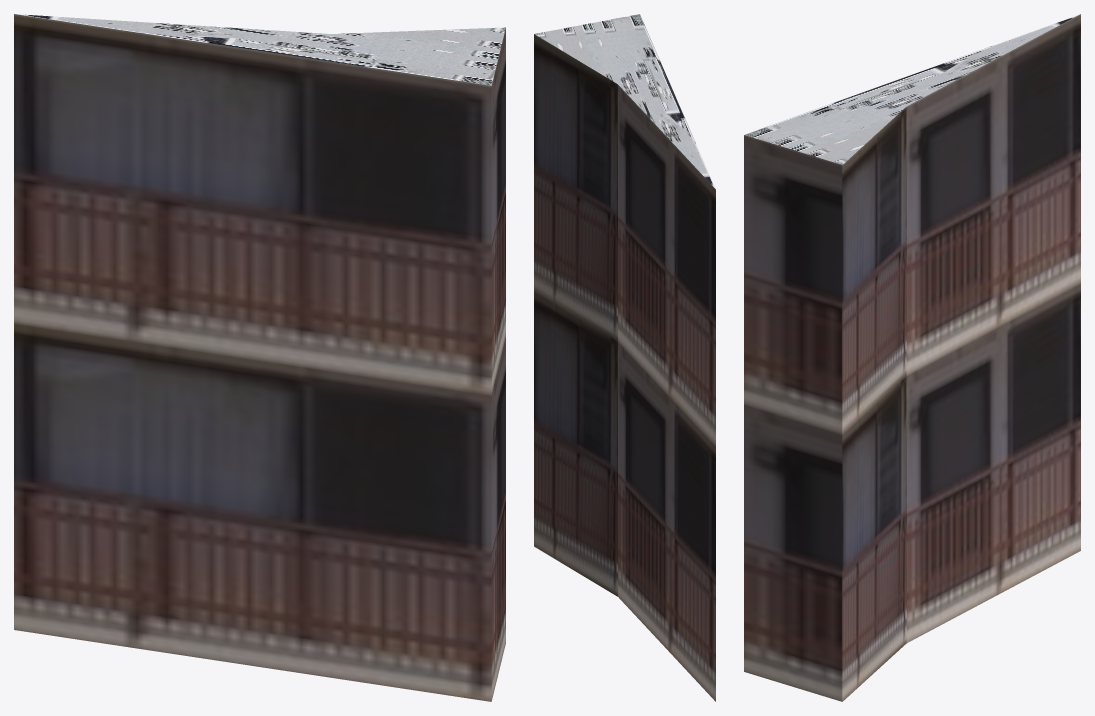
File: ResTex__2872.fbx
The picture shows the model from 3 angles, left to right: view 1: azimuth 30°, elevation 25°; view 2: azimuth 150°, elevation 25°; view 3: azimuth 270°, elevation 25°; orthographic projection. The views are drawn at different scales.
Parts seen in each view (by area): view 1: CityEngineMaterial_6_m, CityEngineMaterial_m; view 2: CityEngineMaterial_6_m, CityEngineMaterial_m; view 3: CityEngineMaterial_6_m, CityEngineMaterial_m.
Part boxes in pixels (box(x1,y1,x2,y2)): CityEngineMaterial_6_m: box(14, 14, 505, 701); CityEngineMaterial_m: box(15, 14, 505, 85); CityEngineMaterial_6_m: box(534, 34, 715, 701); CityEngineMaterial_m: box(534, 14, 715, 188); CityEngineMaterial_6_m: box(744, 14, 1080, 701); CityEngineMaterial_m: box(745, 14, 1079, 164).
Size of the model in its own units: 3.62 by 6 by 3.41.
2 materials, 2 textured.
